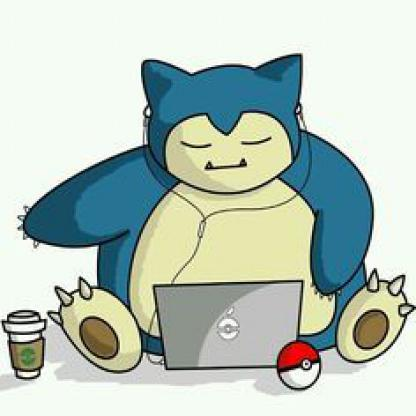Snorlax: (12, 50, 415, 387)
